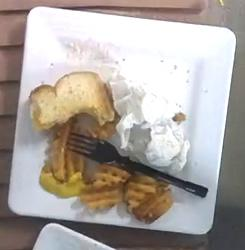bread: (29, 71, 113, 128)
fries: (40, 130, 173, 223)
